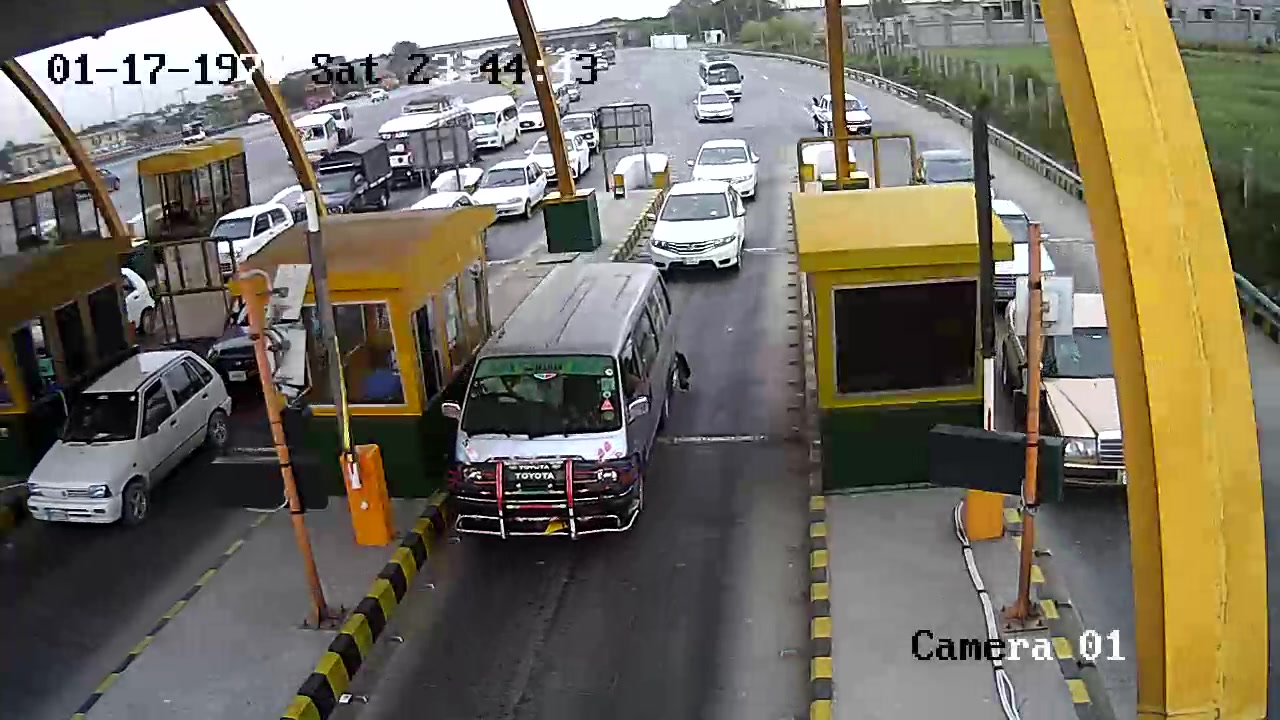F2: (445, 261, 681, 549)
